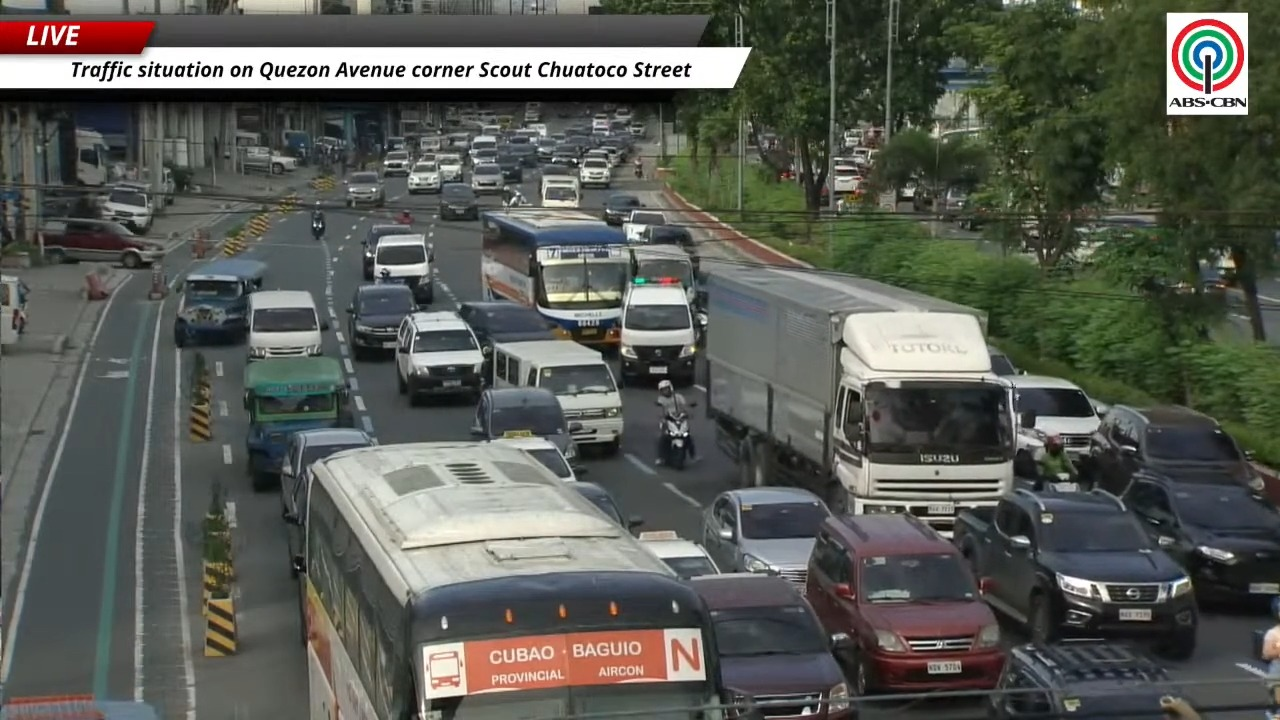bus: (286, 442, 724, 719), (482, 209, 629, 347)
car: (953, 489, 1198, 659), (805, 514, 1003, 695), (688, 573, 853, 719), (1123, 476, 1279, 601), (1085, 405, 1264, 494), (984, 640, 1183, 719), (280, 428, 376, 567), (702, 487, 830, 586), (471, 387, 581, 461), (1008, 374, 1100, 462), (396, 311, 482, 404), (457, 301, 557, 365), (40, 218, 164, 268), (347, 283, 416, 359), (492, 438, 586, 481), (638, 531, 719, 579), (568, 481, 643, 531), (101, 182, 156, 233), (361, 223, 408, 280), (622, 208, 667, 242), (438, 183, 479, 220), (641, 225, 695, 253), (345, 171, 385, 206), (603, 193, 643, 225), (407, 161, 442, 194), (470, 163, 505, 194), (987, 345, 1021, 376), (579, 156, 611, 188), (436, 152, 464, 183), (496, 152, 523, 183), (382, 150, 411, 176), (550, 144, 581, 168), (509, 144, 538, 168), (469, 147, 497, 166), (536, 138, 557, 163), (541, 164, 575, 178), (629, 123, 646, 137)
motorcycle: (661, 412, 688, 469), (694, 312, 708, 347), (504, 195, 528, 208), (311, 220, 324, 240), (396, 211, 412, 225), (633, 164, 644, 179)
truck: (704, 264, 1015, 535), (240, 146, 297, 174)
